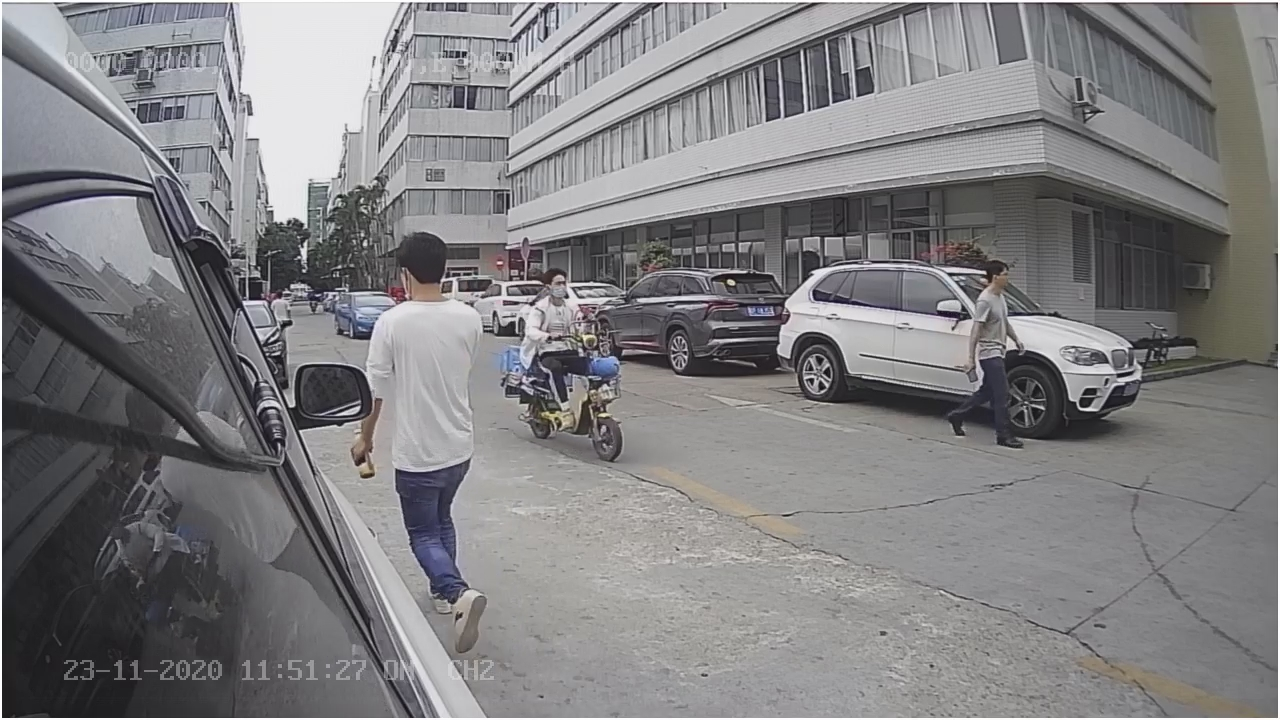person: (355, 219, 495, 363), (941, 247, 1034, 450)
